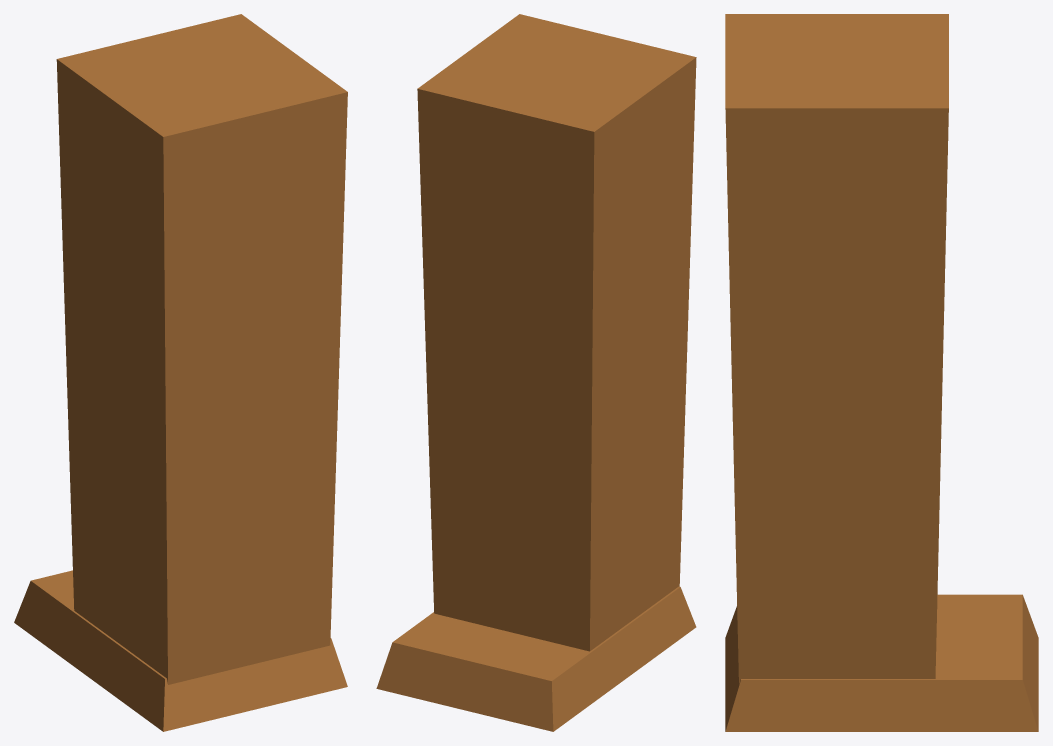
Rendered from animal_tiger_leg.obj.
3 renders of one model, left to right at view 1: azimuth 30°, elevation 25°; view 2: azimuth 150°, elevation 25°; view 3: azimuth 270°, elevation 25°, orthographic. The views are drawn at different scales.
Parts seen in each view (by area): view 1: animal_tiger_leg; view 2: animal_tiger_leg; view 3: animal_tiger_leg.
Boxes of the visible parts, left/top/right/bottom form: animal_tiger_leg: left=14, top=14, right=347, bottom=731; animal_tiger_leg: left=376, top=14, right=696, bottom=731; animal_tiger_leg: left=725, top=14, right=1038, bottom=731.
Bounding box in the file's own units: 0.1494 × 0.46 × 0.2093.
